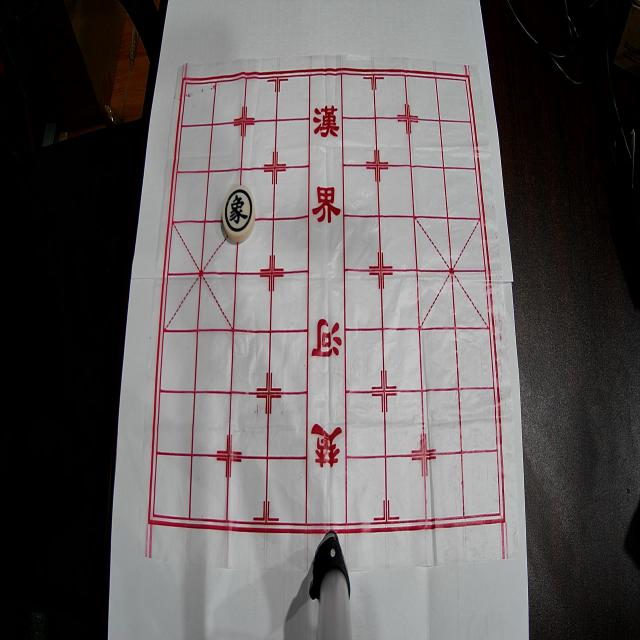black-elephant: (222, 185, 255, 242)
